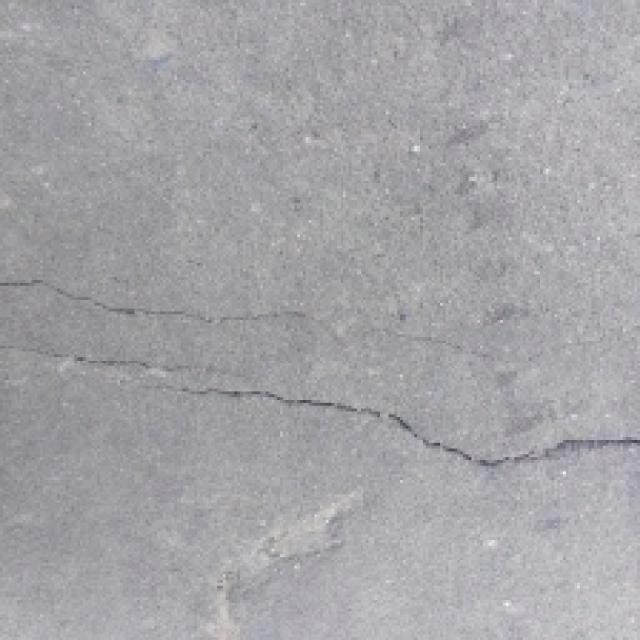crack: (0, 274, 640, 486)
